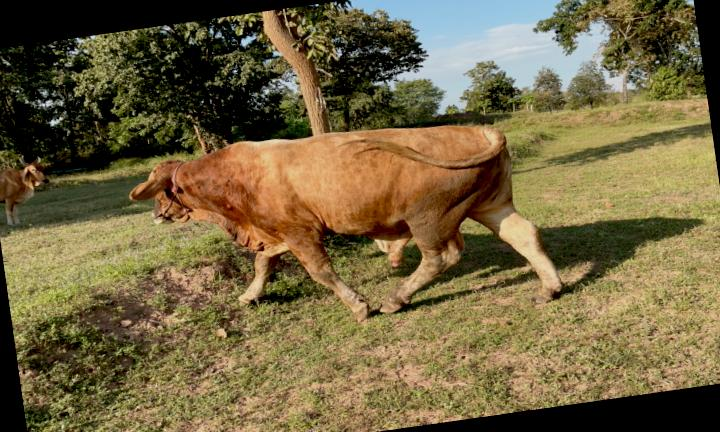Charolais: (130, 126, 562, 321)
